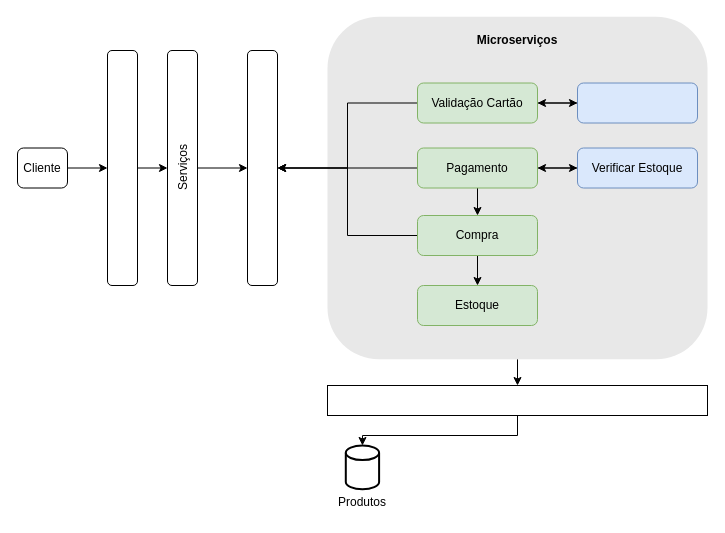
Some shapes in this 725 by 533 pixel diagram are drawn without their labels. The box of each missing label's shape, as (x1, y1, x2, y2) in pixels:
Aplicação: (106, 50, 138, 286)
Base de Dados: (326, 384, 708, 416)
Fake validação: (576, 82, 698, 123)
RabbitMQ: (246, 50, 278, 286)
